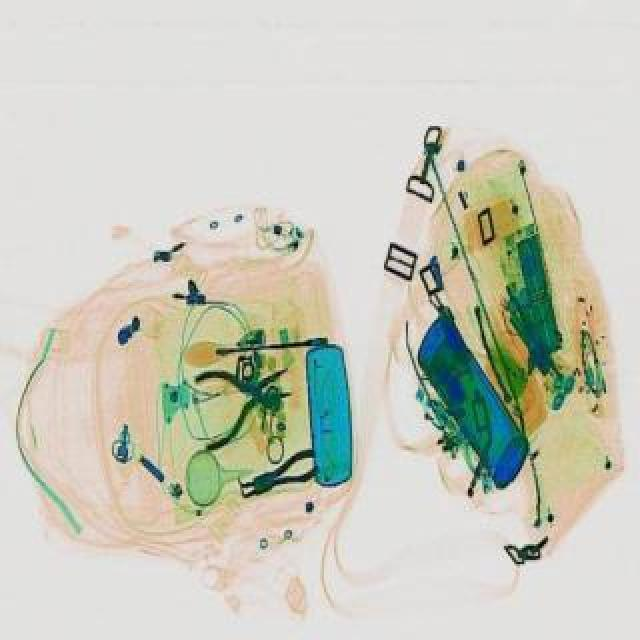wrench: (182, 348, 306, 448), (232, 444, 324, 502)
